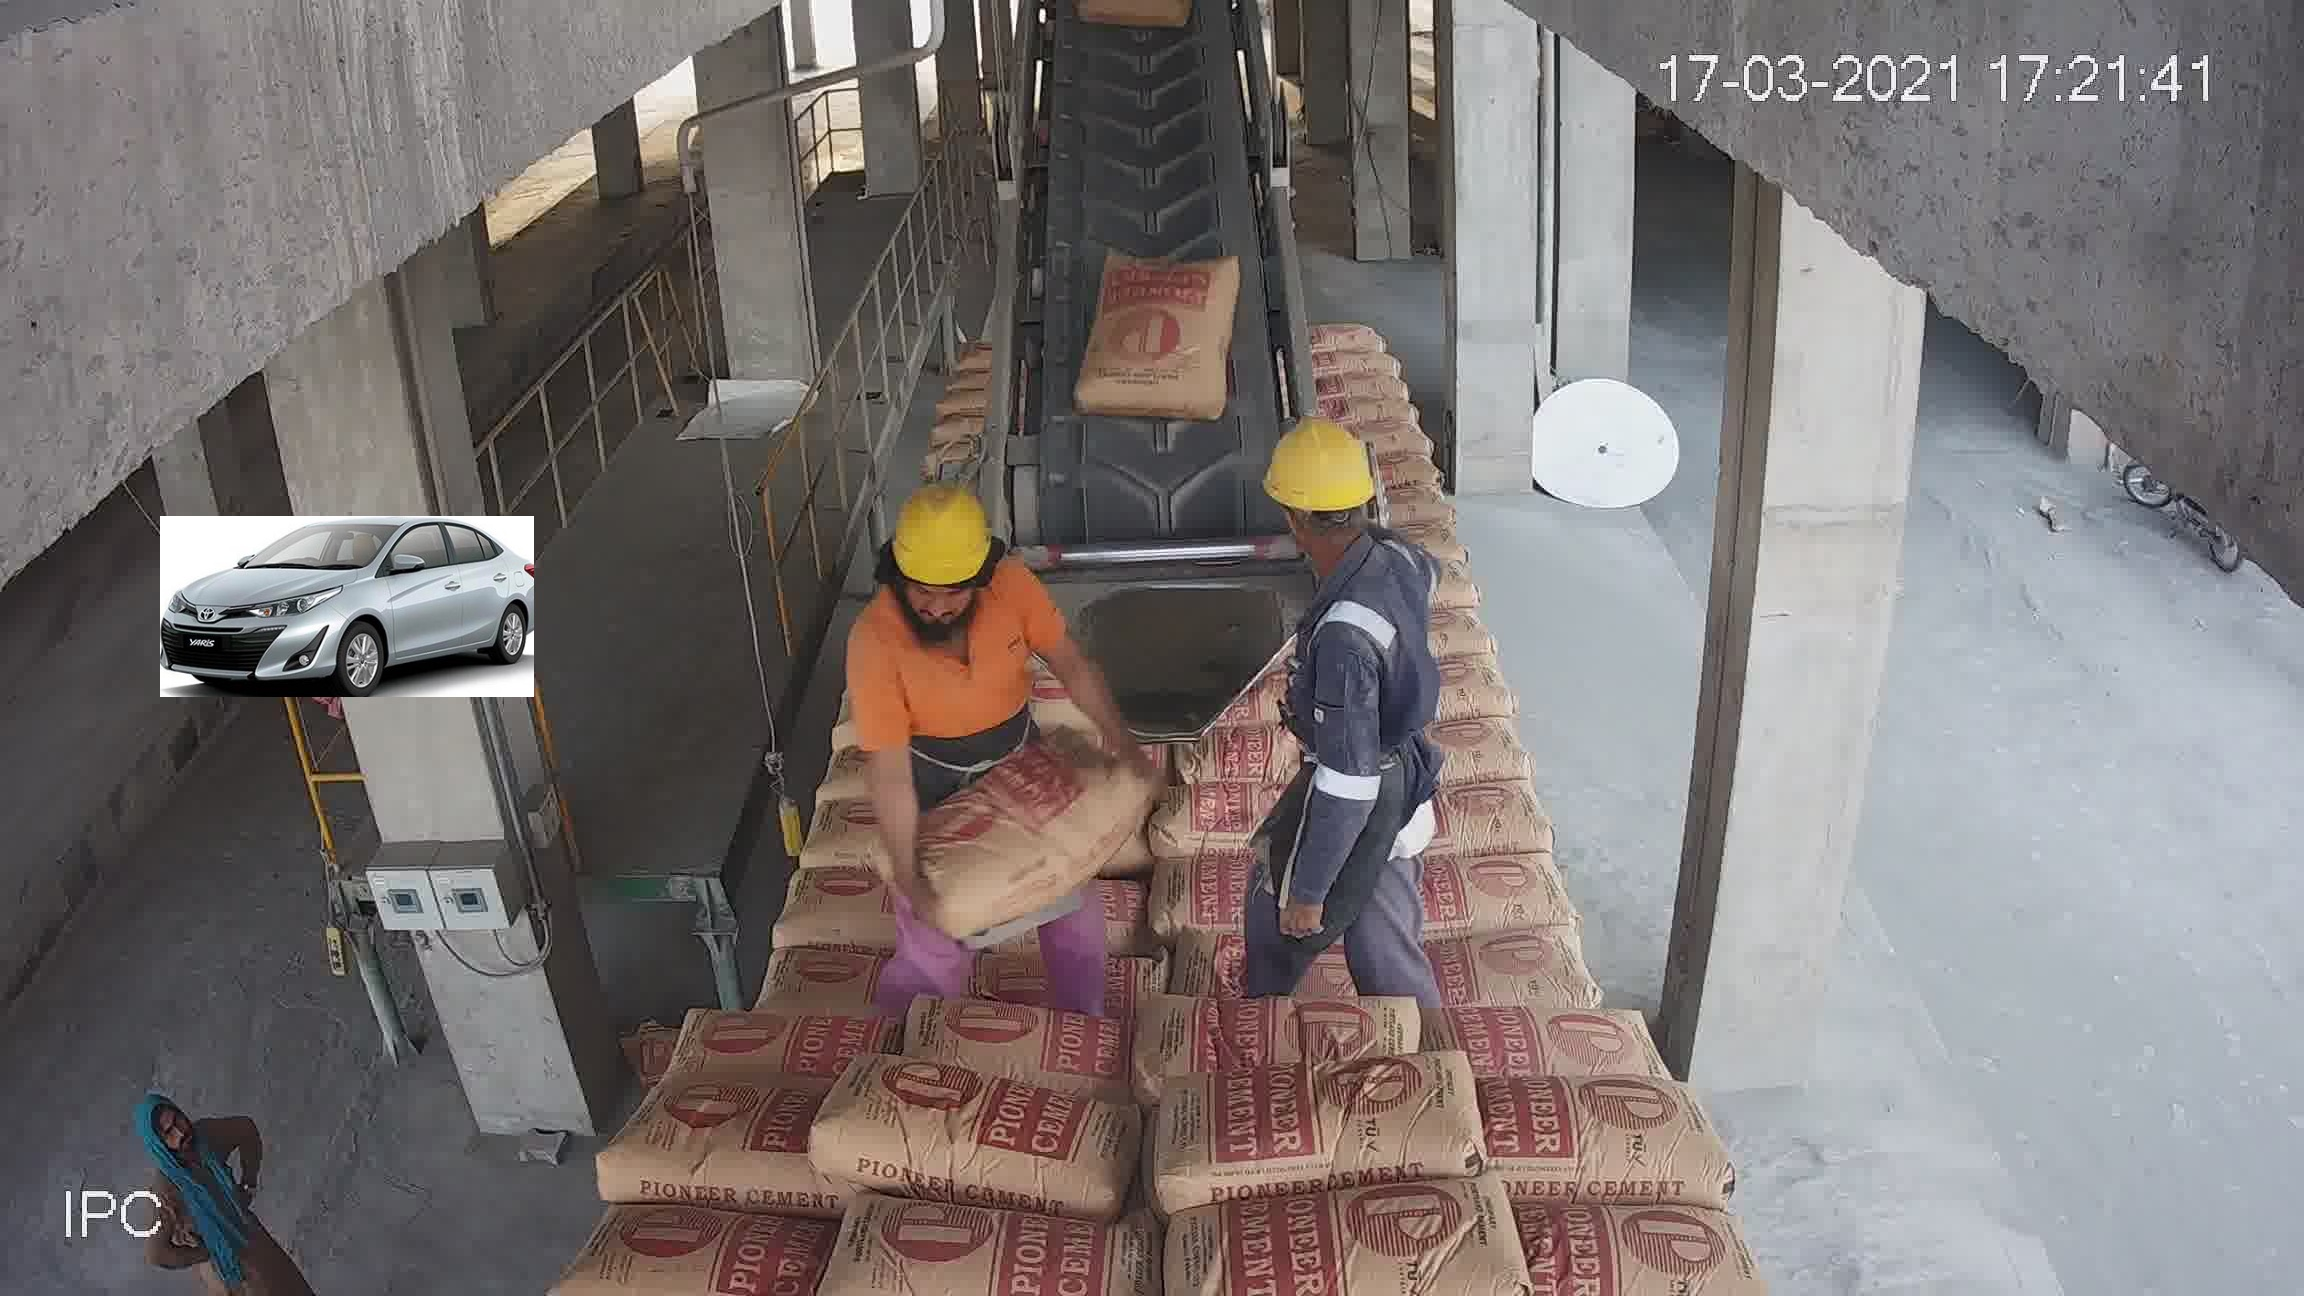bag_h: (1150, 1044, 1495, 1211), (1146, 927, 1453, 1063), (1138, 1176, 1522, 1283), (1146, 824, 1434, 964), (820, 1082, 1166, 1188), (1461, 1078, 1725, 1206), (880, 954, 1147, 1071), (1139, 722, 1404, 837), (1464, 957, 1722, 1071), (1416, 853, 1646, 967), (810, 1222, 1146, 1296), (1465, 1201, 1790, 1275), (579, 1106, 826, 1201), (885, 851, 1139, 943), (902, 748, 1128, 850), (627, 975, 858, 1068), (679, 862, 889, 957), (1404, 766, 1593, 858), (722, 767, 881, 862), (1002, 661, 1204, 729), (584, 1242, 821, 1296), (1014, 567, 1177, 635), (1014, 619, 1177, 684), (1177, 617, 1309, 673), (1179, 574, 1329, 622), (902, 462, 1021, 521), (1030, 715, 1166, 766), (1027, 540, 1176, 585), (915, 498, 1027, 555), (1199, 676, 1305, 734), (1185, 529, 1313, 568), (1423, 658, 1510, 715), (1435, 715, 1525, 763), (940, 543, 1048, 582), (934, 430, 1005, 476)
belt: (1021, 17, 1294, 510)
